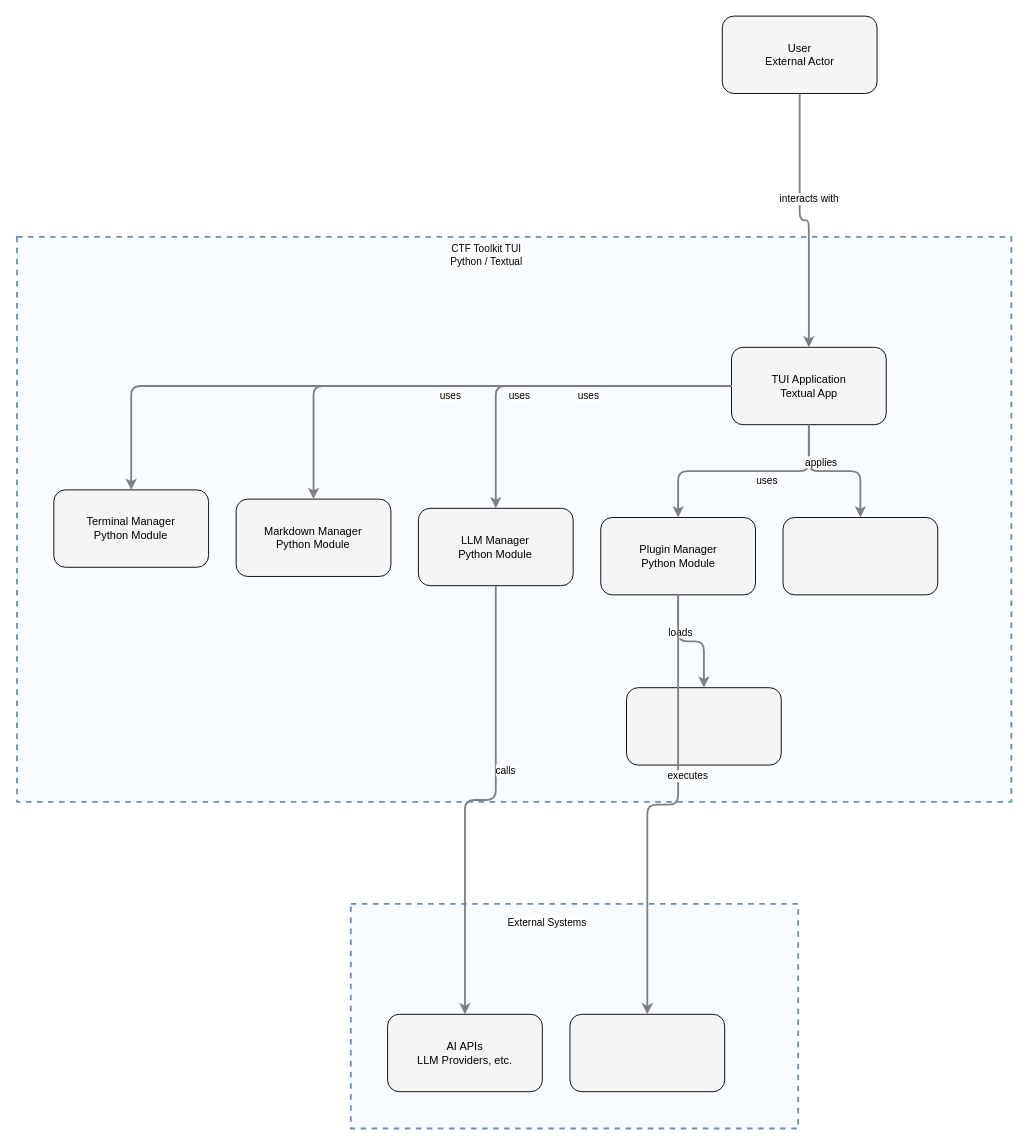
The diagram is 1028 pixels wide and 1145 high, and some of its shapes have lost their labels. Here are the shapes that lost their labels. From the top down, the centre of each, then its label:
(860,556): TUI Styles CSS File
(703,726): Plugin Configurations YAML Directory
(647,1052): External CLI Tools nmap, gobuster, etc.
